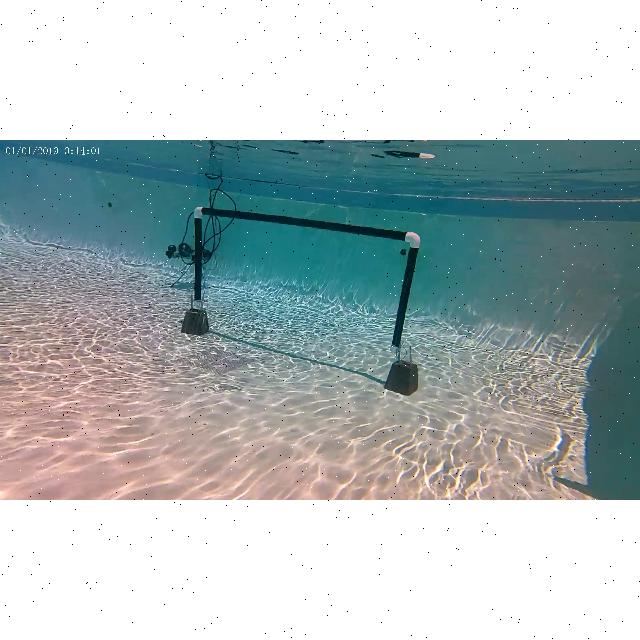prequal gate: (193, 206, 421, 354)
prequal gate leg l: (192, 205, 208, 312)
prequal gate leg r: (391, 225, 424, 359)
